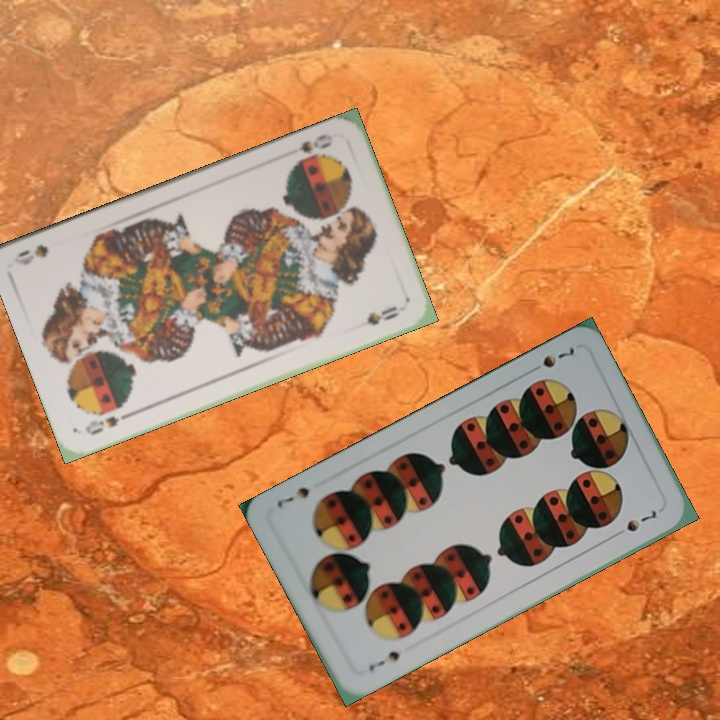S7: (538, 343, 578, 370), (365, 647, 403, 674)
SO: (283, 129, 336, 169), (81, 407, 136, 438)
